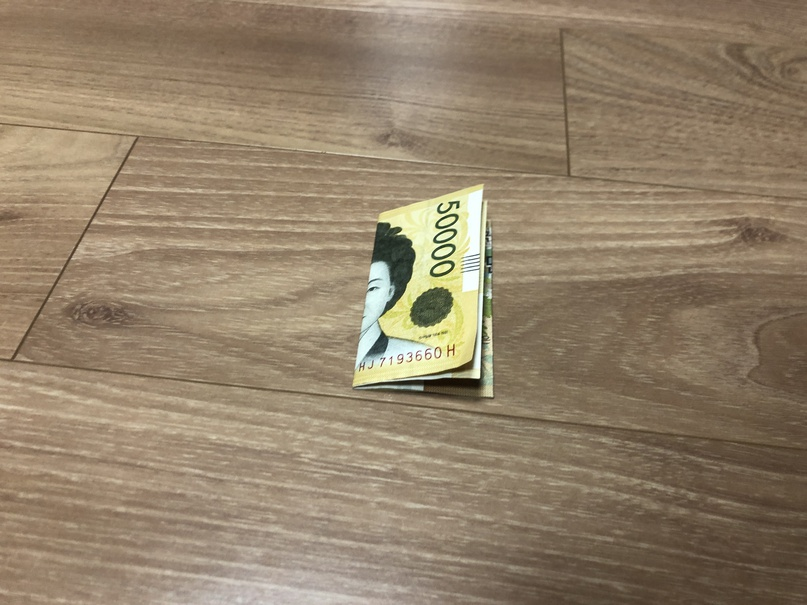50000won: (352, 183, 495, 399)
